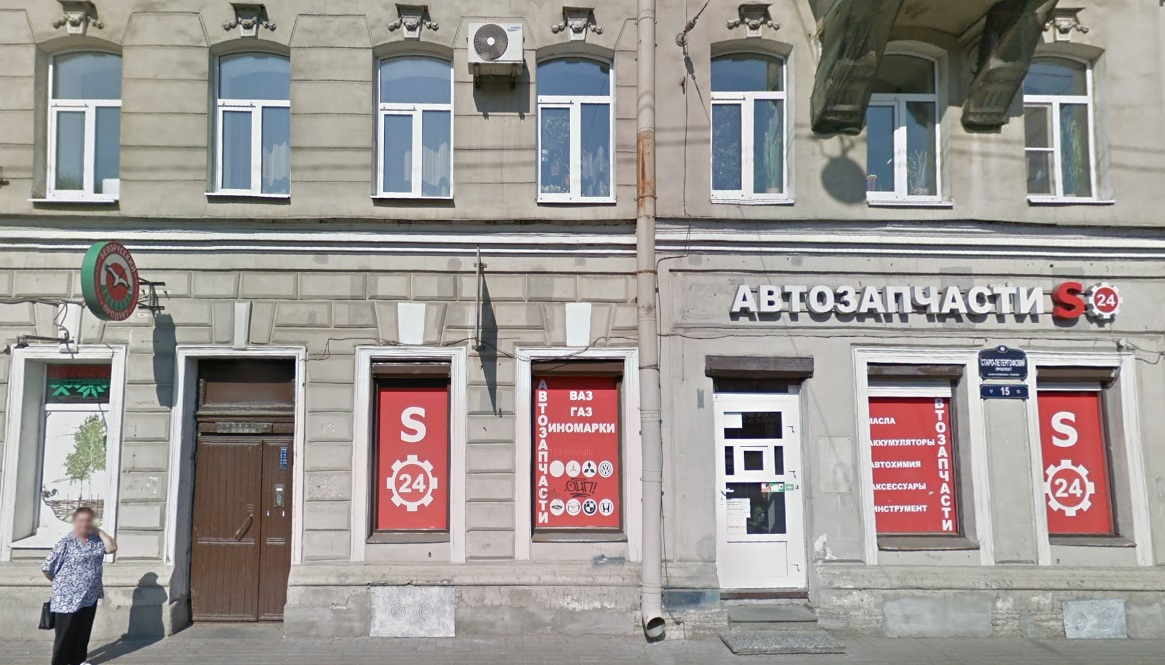cantilever: (81, 242, 161, 320)
door: (713, 398, 809, 597), (194, 434, 289, 628)
signboard: (731, 275, 1119, 330)
window: (532, 361, 617, 536), (869, 389, 966, 541), (39, 44, 123, 203), (1038, 381, 1122, 539), (373, 362, 451, 532), (375, 48, 455, 200), (866, 45, 942, 197), (535, 52, 610, 206), (710, 48, 785, 200), (211, 46, 288, 193), (1029, 55, 1096, 204)
